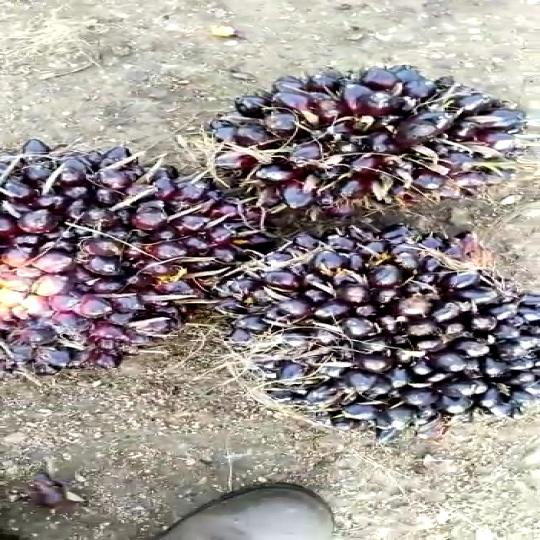mentah: (207, 230, 526, 454), (179, 66, 540, 240), (0, 114, 250, 357)
